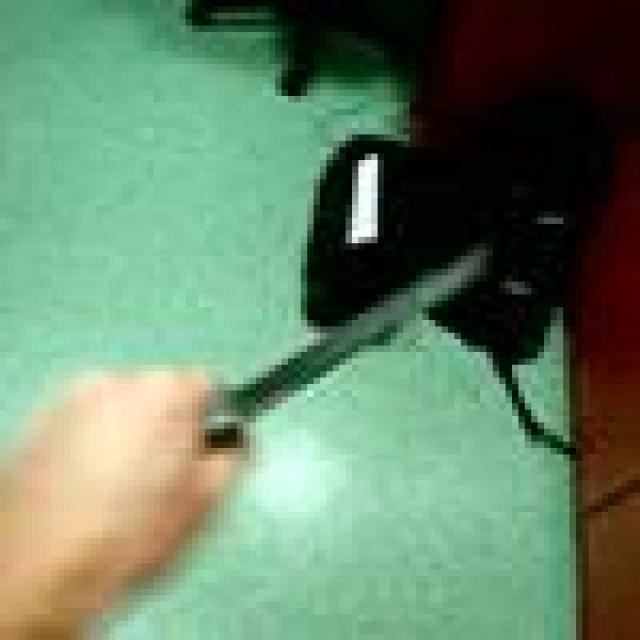faca: (0, 205, 506, 621)
